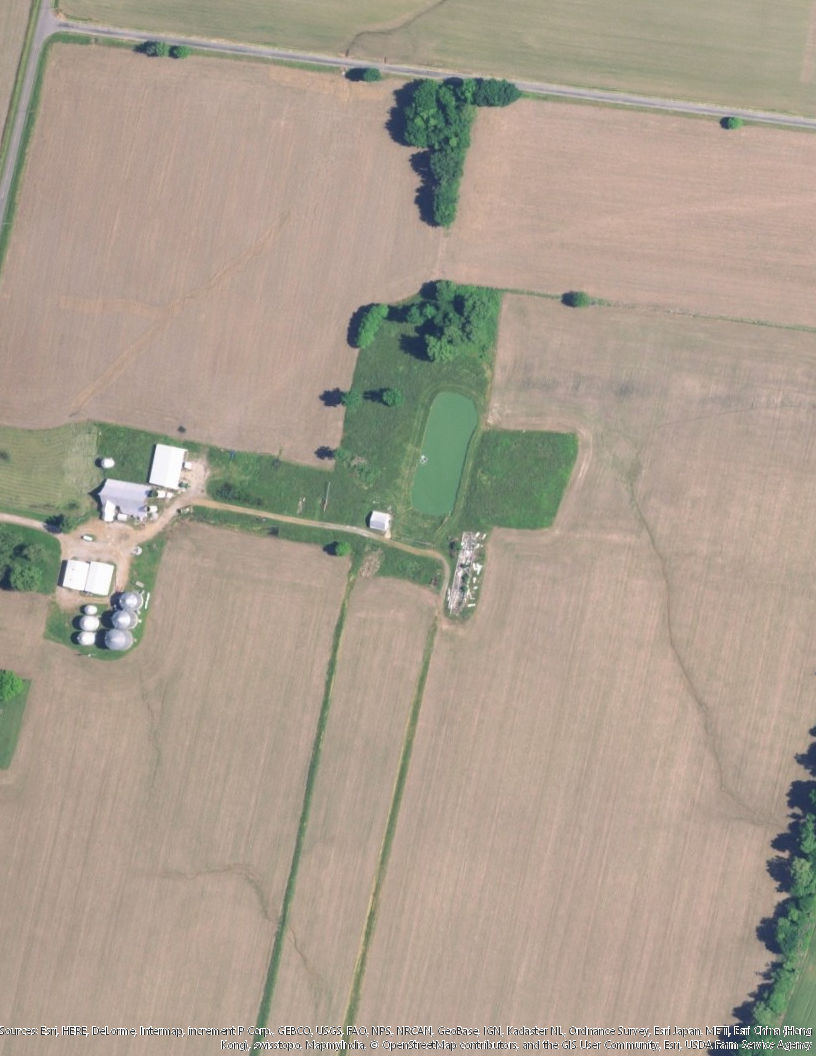cafo: (146, 445, 187, 490)
